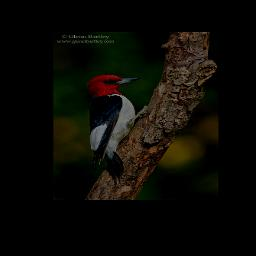Woodpecker: (84, 75, 153, 187)
